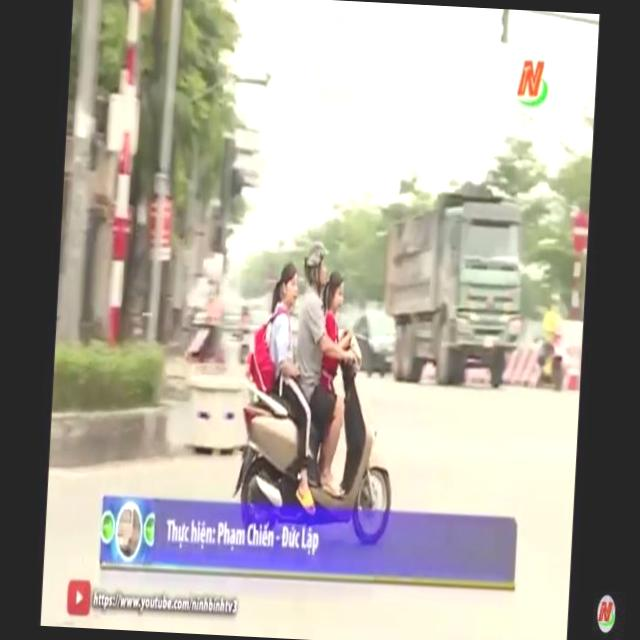motorcycle: (228, 318, 405, 549)
person: (311, 268, 360, 491), (256, 258, 316, 436), (288, 240, 342, 434)
rider_region: (233, 239, 405, 510)
